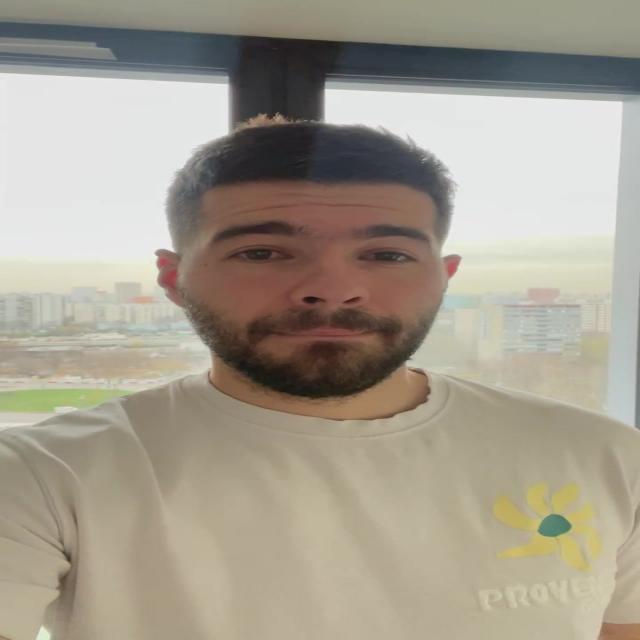earlobe: (154, 249, 187, 309), (440, 254, 462, 285)
